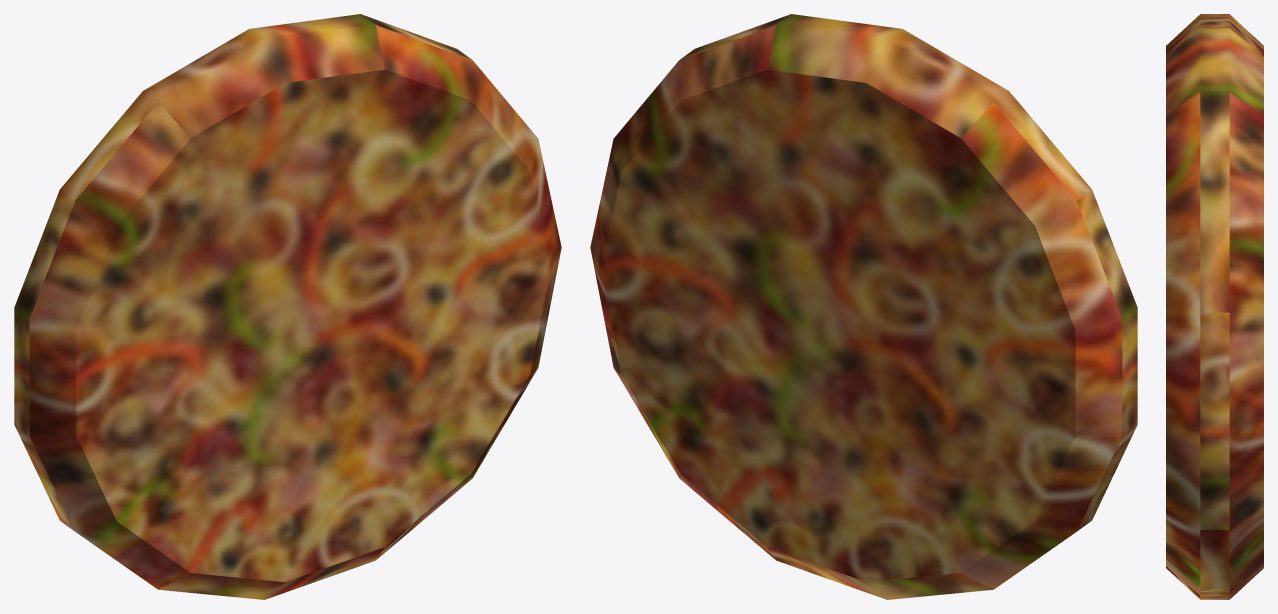
File: piza_01.FBX
3 renders of one model, left to right at view 1: azimuth 30°, elevation 25°; view 2: azimuth 150°, elevation 25°; view 3: azimuth 270°, elevation 25°, orthographic. The views are drawn at different scales.
Visible parts, largest first — view 1: Cylinder001; view 2: Cylinder001; view 3: Cylinder001.
Part boxes in pixels (left/top/right/bottom): Cylinder001: left=14, top=14, right=561, bottom=599; Cylinder001: left=590, top=14, right=1137, bottom=599; Cylinder001: left=1166, top=14, right=1263, bottom=599.
Size of the model in its own units: 165 by 166 by 27.64.
1 material, 1 textured.
